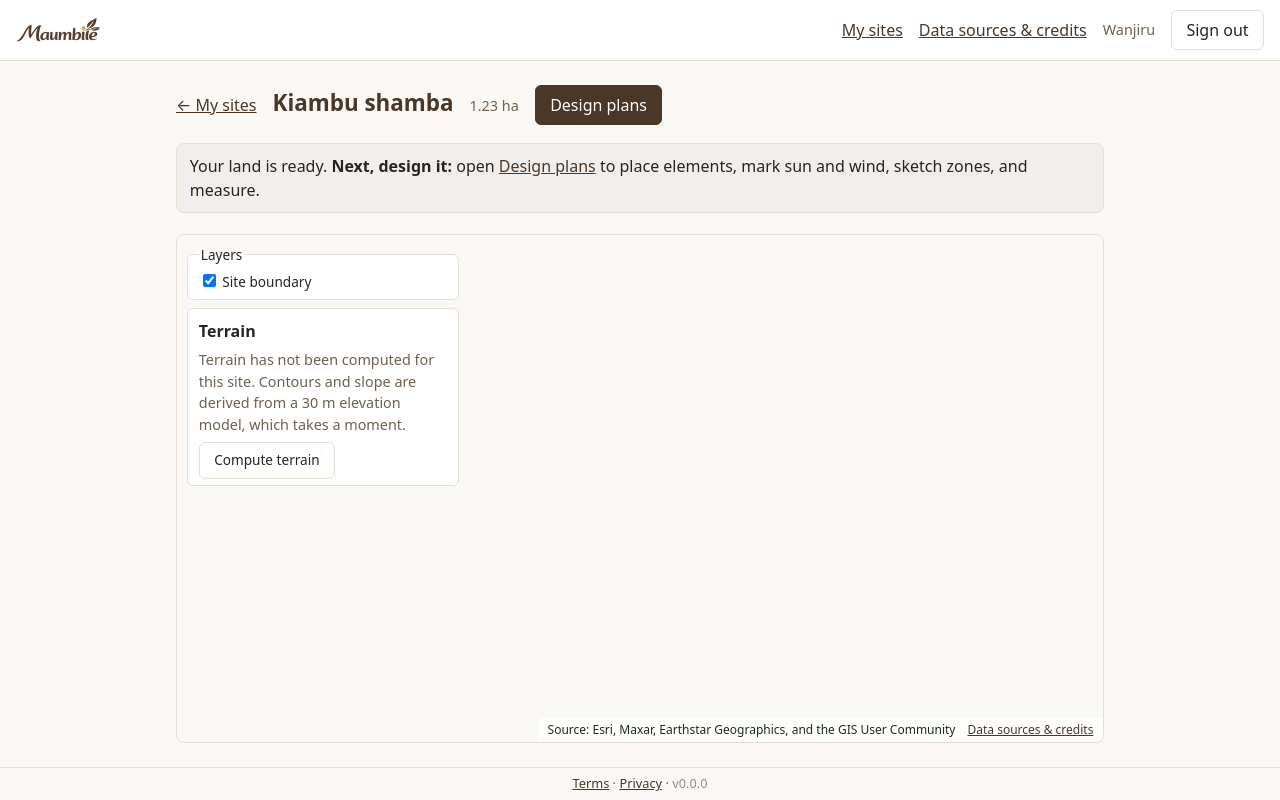
Scenario: terrain on the site map › surfaces why terrain cannot be requested
Click the button "Compute terrain".
click(267, 460)  # box [199, 442, 335, 479]
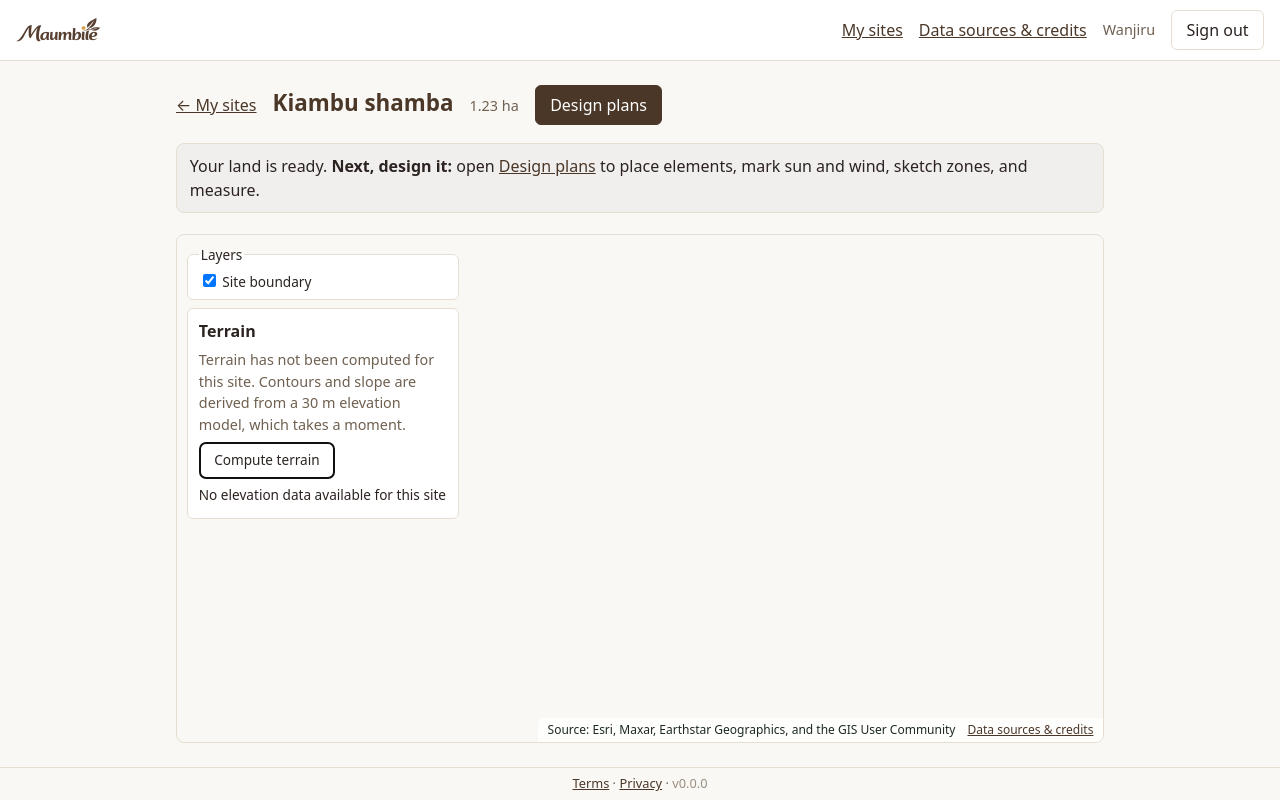
expect the message shows "No elevation data available": met, box [199, 485, 446, 504]
